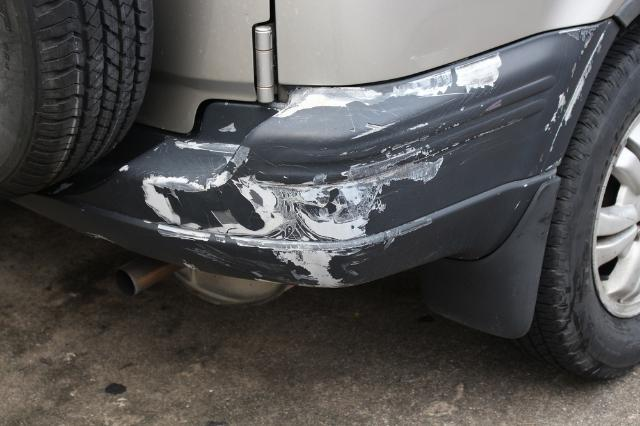scratch: (143, 51, 508, 289)
